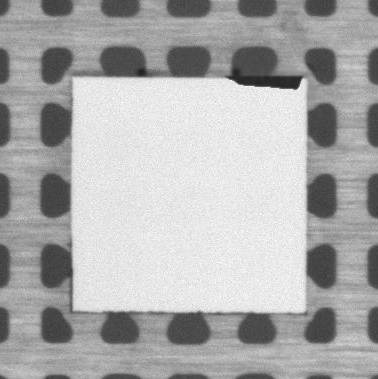DIE_BROKEN: (226, 75, 304, 90)
